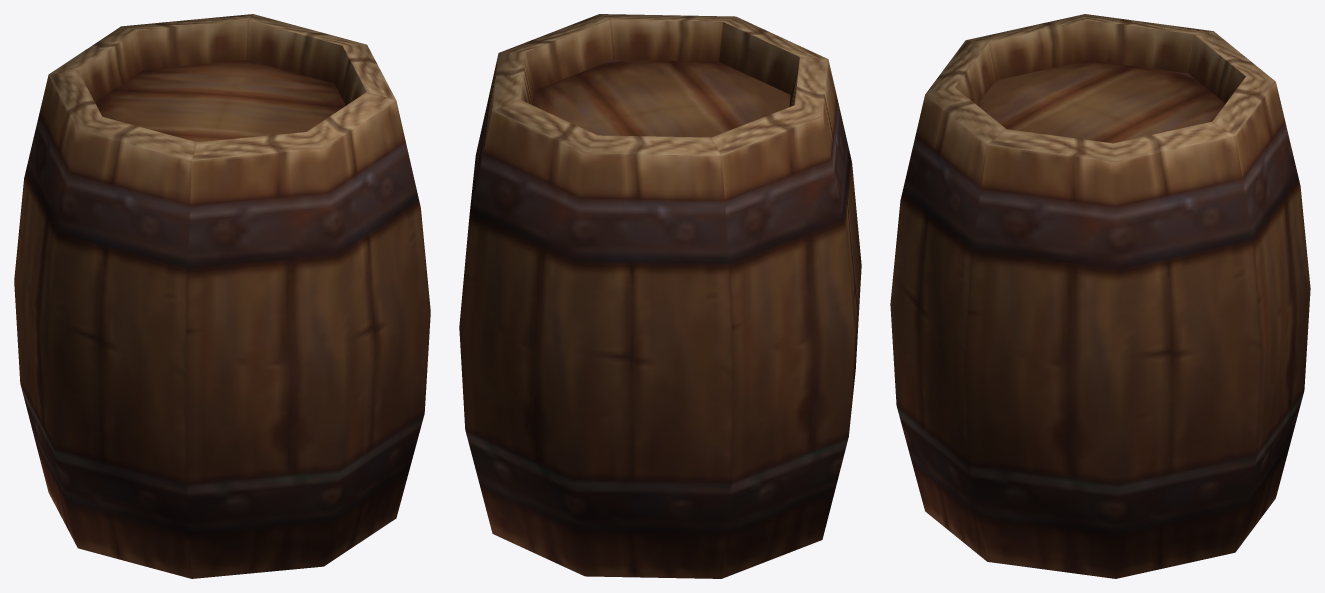
The model's file is Dungeons_03_02_17.FBX.
3 views of the same model, side by side, from view 1: azimuth 30°, elevation 25°; view 2: azimuth 150°, elevation 25°; view 3: azimuth 270°, elevation 25° (orthographic).
Parts seen in each view (by area): view 1: Object365; view 2: Object365; view 3: Object365.
Boxes of the visible parts, bbox=[...] form: Object365: bbox=[14, 14, 430, 578]; Object365: bbox=[459, 14, 861, 578]; Object365: bbox=[890, 14, 1310, 578].
Size of the model in its own units: 13.47 by 15.24 by 13.47.
